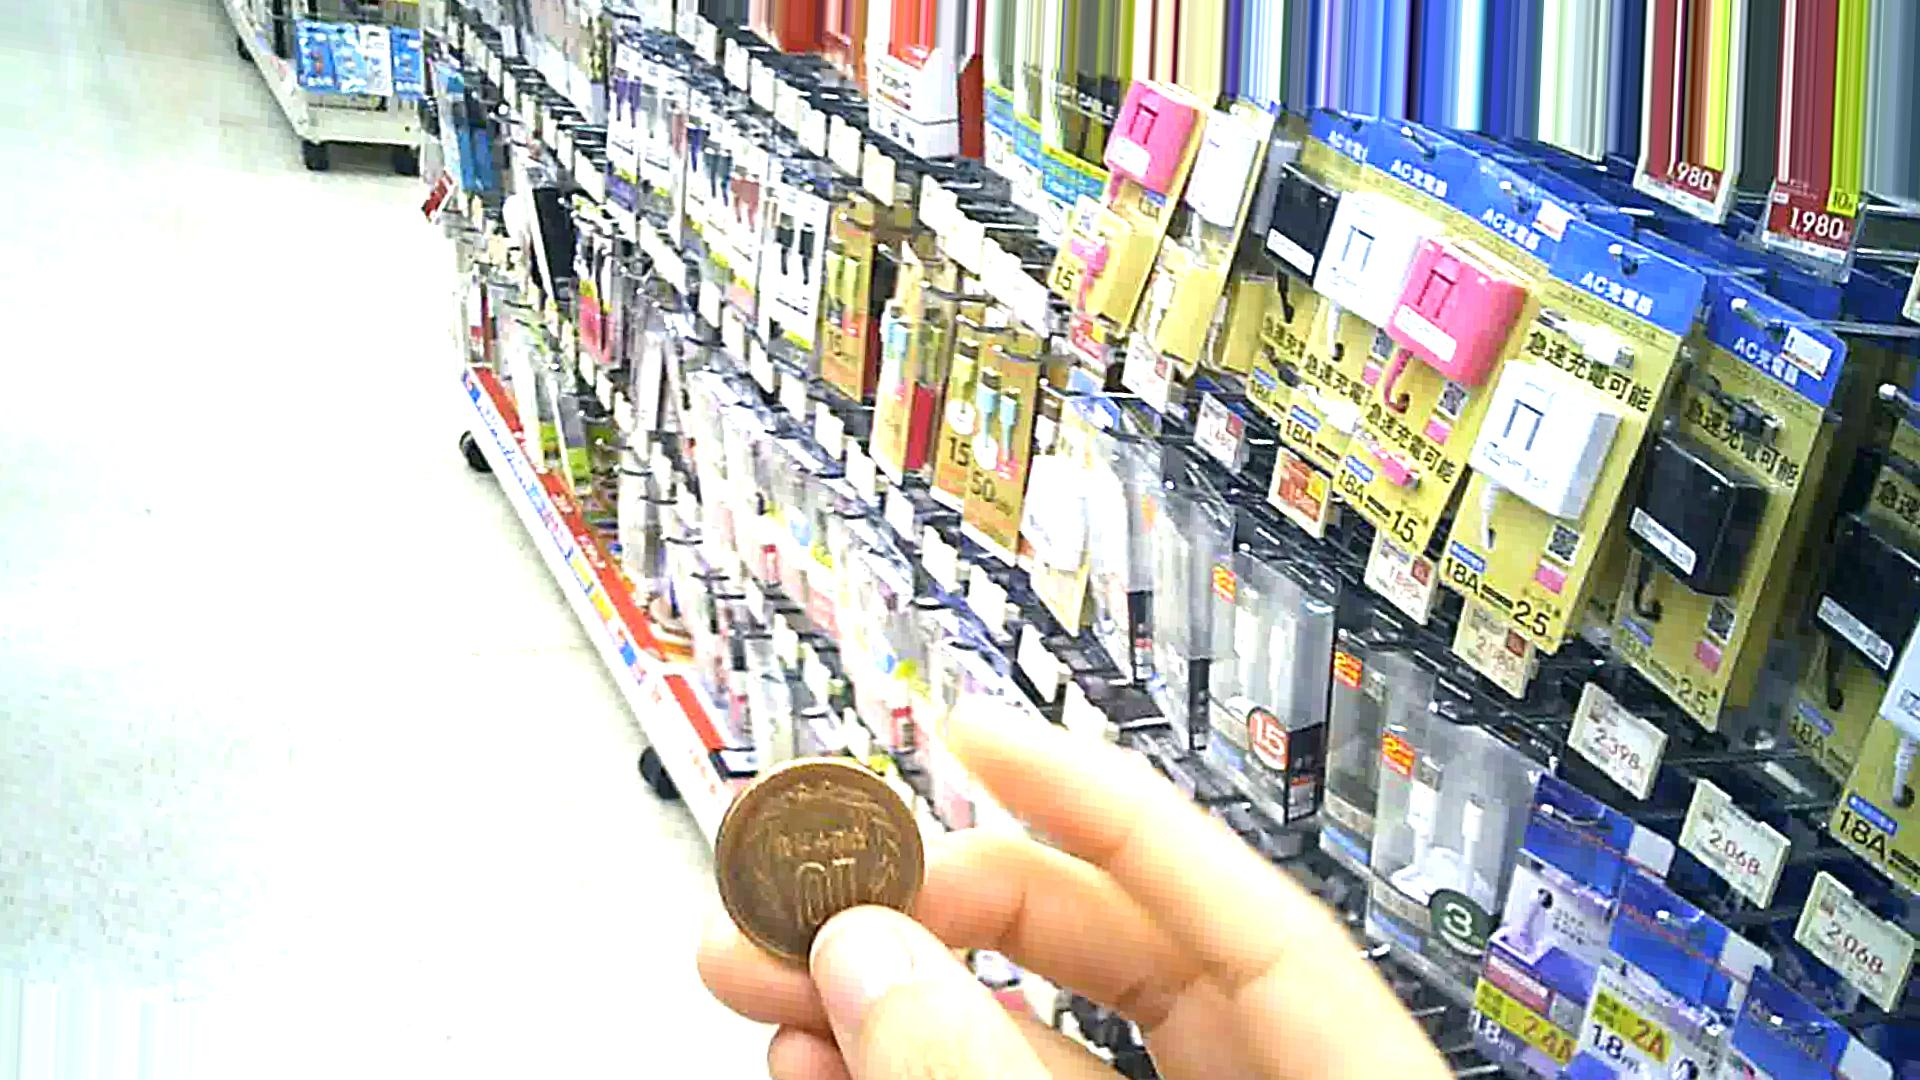10 Yen: (705, 752, 947, 989)
